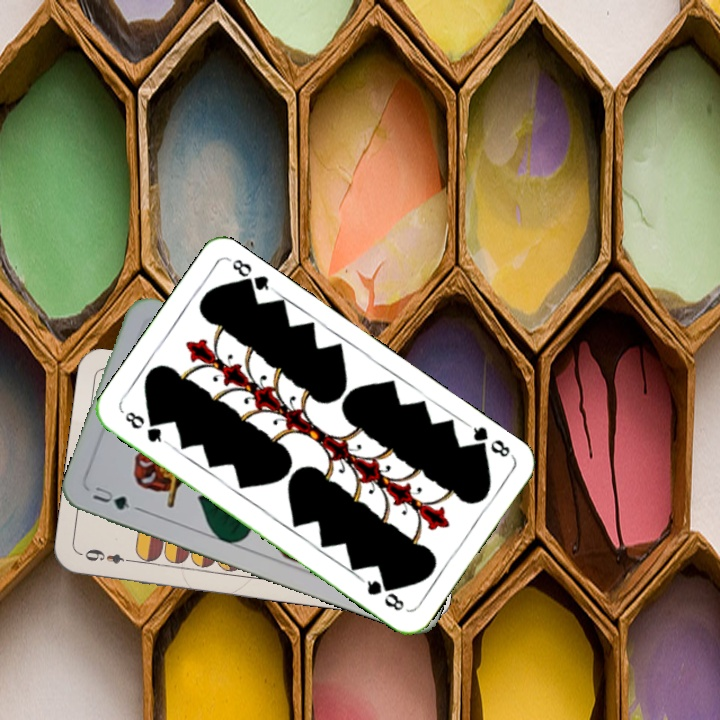E9: (78, 545, 137, 566)
G8: (463, 420, 515, 460), (120, 407, 170, 447)
GU: (88, 482, 133, 513)
